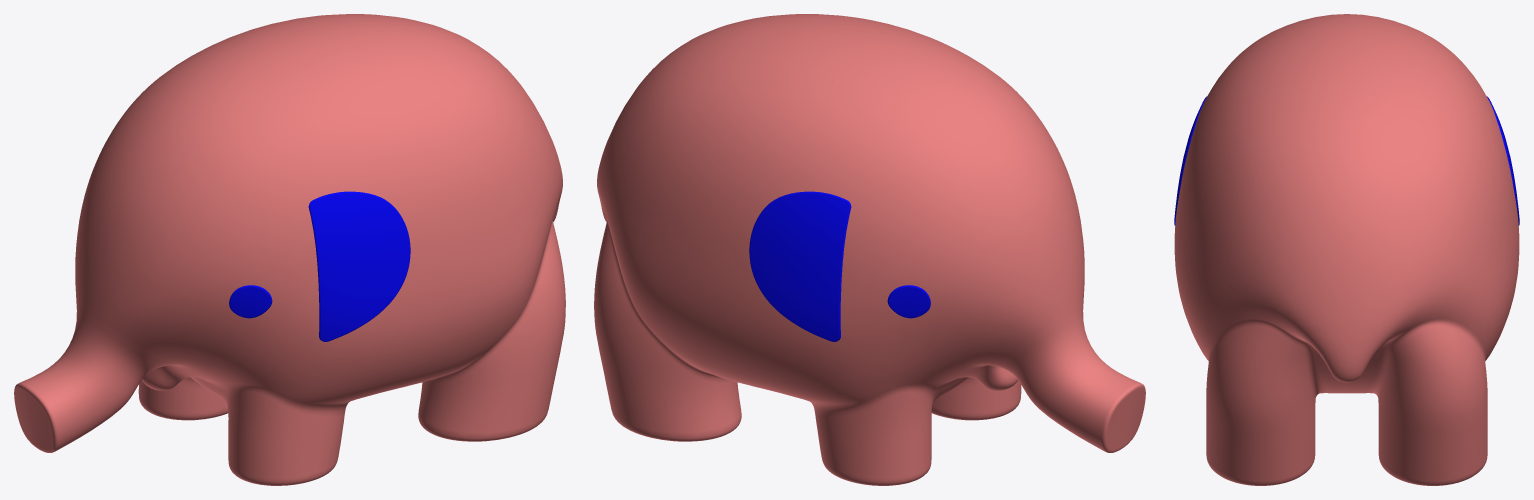
3 views of the same model, side by side, from view 1: azimuth 30°, elevation 25°; view 2: azimuth 150°, elevation 25°; view 3: azimuth 270°, elevation 25° (orthographic). The views are drawn at different scales.
Visible parts, largest first — view 1: model8; view 2: model8; view 3: model8.
Part boxes in pixels (x1=…): model8: x1=14, y1=14, x2=565, y2=485; model8: x1=594, y1=14, x2=1145, y2=485; model8: x1=1174, y1=14, x2=1519, y2=485.
Bounding box in the file's own units: 0.1575 × 0.1082 × 0.0944.
